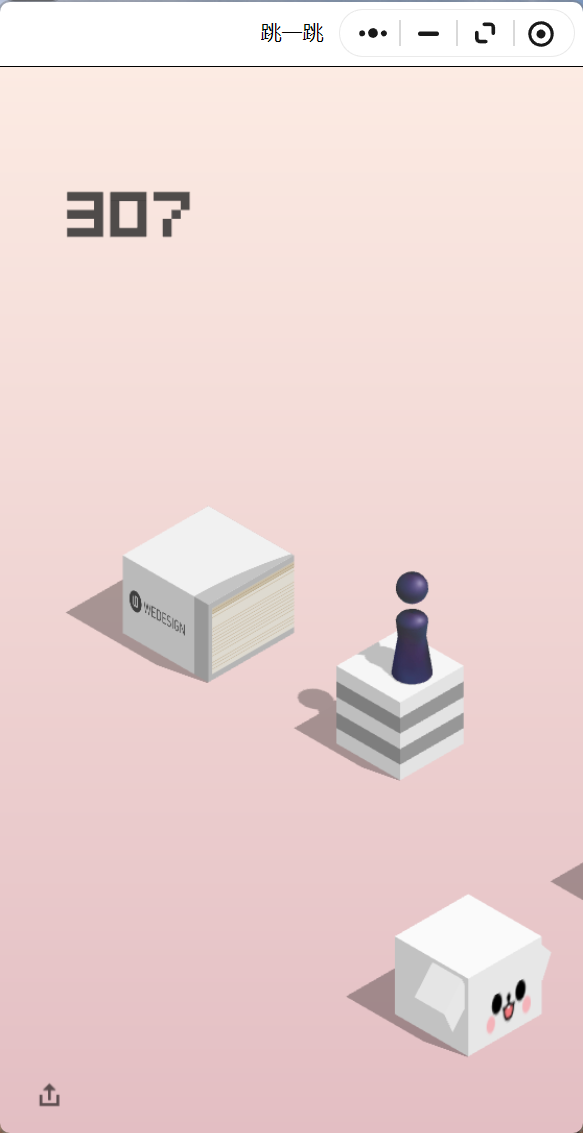piece: (397, 573, 428, 680)
target: (123, 506, 294, 604)
